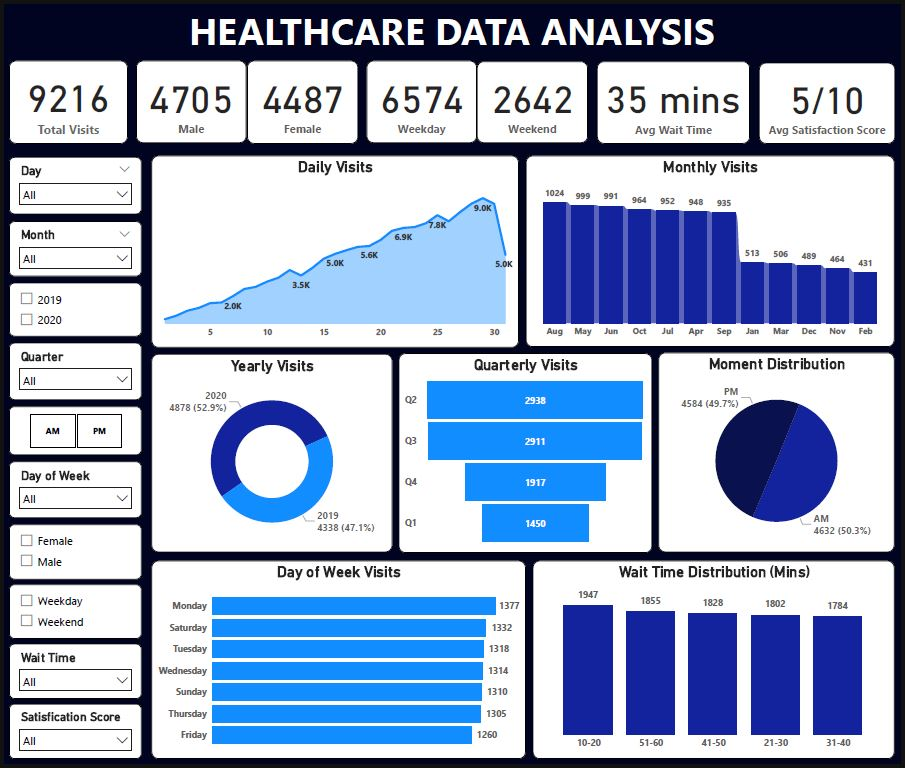

The dashboard page shown, as its layout file describes it:
{"tool":"powerbi","page":{"name":"Page 1","canvas":[1282,1086],"ordinal":0},"visuals":[{"type":"stackedAreaChart","title":"Daily Visits","fields":{"Category":["date_time table.day"],"Y":["Sum(date_time table.day)"]},"box":[210,215.7,525.7,275.7],"z":0},{"type":"columnChart","title":"Monthly Visits","fields":{"Category":["date_time table.month"],"Y":["CountNonNull(date_time table.month)"]},"box":[745.7,215.7,528.6,274.3],"z":1000},{"type":"donutChart","title":"Yearly Visits","fields":{"Y":["CountNonNull(date_time table.year)"],"Category":["date_time table.year"]},"box":[210,500,345,283.8],"z":2000},{"type":"clusteredBarChart","title":"Day of Week Visits","fields":{"Category":["date_time table.day of week"],"Y":["CountNonNull(date_time table.day of week)"]},"box":[210,795.7,535.7,284.3],"z":3000},{"type":"funnel","title":"Quarterly Visits","fields":{"Category":["date_time table.quarter"],"Y":["CountNonNull(date_time table.quarter)"]},"box":[564.3,499.4,362.9,285.7],"z":4000},{"type":"pieChart","title":"Moment Distribution","fields":{"Category":["date_time table.Moment"],"Y":["CountNonNull(date_time table.Moment)"]},"box":[935.7,498,338.6,285.7],"z":5000},{"type":"textbox","box":[0,0,1280,74.3],"z":6000},{"type":"lineStackedColumnComboChart","title":"Wait Time Distribution (Mins)","fields":{"Category":["date_time table.waittime_bucket"],"Y":["CountNonNull(date_time table.waittime_bucket)"]},"box":[755.7,795.7,518.6,284.3],"z":7000},{"type":"slicer","fields":{"Values":["date_time table.day of week"]},"box":[6.2,653.8,190,81.2],"z":8000},{"type":"slicer","fields":{"Values":["date_time table.Moment"]},"box":[6.2,575,190,70],"z":9000},{"type":"slicer","fields":{"Values":["date_time table.quarter"]},"box":[6.2,483.8,190,82.5],"z":10000},{"type":"slicer","fields":{"Values":["date_time table.year"]},"box":[6.2,397.5,190,77.5],"z":11000},{"type":"slicer","fields":{"Values":["date_time table.month"]},"box":[6.2,310,190,78.8],"z":12000},{"type":"slicer","fields":{"Values":["date_time table.day"]},"box":[5.7,218.2,190,81.4],"z":13000},{"type":"slicer","fields":{"Values":["patient table.patient_gender"]},"box":[6.2,743.8,190,78.8],"z":14000},{"type":"slicer","fields":{"Values":["date_time table.weekday/weekend"]},"box":[6.2,830,190,77.5],"z":15000},{"type":"slicer","fields":{"Values":["date_time table.waittime_bucket"]},"box":[6.2,915,190,78.8],"z":16000},{"type":"slicer","fields":{"Values":["activity table.satisfication_score"]},"box":[6.2,1001.2,190,78.8],"z":17000},{"type":"card","fields":{"Values":["Count(patient table.patient_id)"]},"box":[5.7,80,170,118.6],"z":18000},{"type":"card","fields":{"Values":["CountNonNull(patient table.patient_gender)"]},"box":[187.7,79.8,158.6,118.6],"z":19000},{"type":"card","fields":{"Values":["CountNonNull(patient table.patient_gender)"]},"box":[347,79.7,159.4,118.8],"z":20000},{"type":"card","fields":{"Values":["date_time table.Avg Wait Time"]},"box":[847.8,81.2,218.8,117.4],"z":21000},{"type":"card","fields":{"Values":["date_time table.Avg Satisfication Score"]},"box":[1079.7,82.6,195.7,115.9],"z":22000},{"type":"card","fields":{"Values":["CountNonNull(date_time table.weekday/weekend)"]},"box":[517.7,79.7,158.6,118.6],"z":23000},{"type":"card","fields":{"Values":["CountNonNull(date_time table.weekday/weekend)"]},"box":[676.3,81.2,158.6,117.1],"z":24000}]}

Visuals, with their boxes in screenshot pixels (x1, y1, x2, y2), scaled from the page's 1282x1086 canvas onto the 905x768 screenshot:
"Daily Visits" stackedAreaChart: x1=148, y1=153, x2=519, y2=348
"Monthly Visits" columnChart: x1=526, y1=153, x2=900, y2=347
"Yearly Visits" donutChart: x1=148, y1=354, x2=392, y2=554
"Day of Week Visits" clusteredBarChart: x1=148, y1=563, x2=526, y2=764
"Quarterly Visits" funnel: x1=398, y1=353, x2=655, y2=555
"Moment Distribution" pieChart: x1=661, y1=352, x2=900, y2=554
textbox: x1=0, y1=0, x2=904, y2=53
"Wait Time Distribution (Mins)" lineStackedColumnComboChart: x1=533, y1=563, x2=900, y2=764
slicer - date_time table.day of week: x1=4, y1=462, x2=139, y2=520
slicer - date_time table.Moment: x1=4, y1=407, x2=139, y2=456
slicer - date_time table.quarter: x1=4, y1=342, x2=139, y2=400
slicer - date_time table.year: x1=4, y1=281, x2=139, y2=336
slicer - date_time table.month: x1=4, y1=219, x2=139, y2=275
slicer - date_time table.day: x1=4, y1=154, x2=138, y2=212
slicer - patient table.patient_gender: x1=4, y1=526, x2=139, y2=582
slicer - date_time table.weekday/weekend: x1=4, y1=587, x2=139, y2=642
slicer - date_time table.waittime_bucket: x1=4, y1=647, x2=139, y2=703
slicer - activity table.satisfication_score: x1=4, y1=708, x2=139, y2=764
card - Count(patient table.patient_id): x1=4, y1=57, x2=124, y2=140
card - CountNonNull(patient table.patient_gender): x1=133, y1=56, x2=244, y2=140
card - CountNonNull(patient table.patient_gender): x1=245, y1=56, x2=357, y2=140
card - date_time table.Avg Wait Time: x1=598, y1=57, x2=753, y2=140
card - date_time table.Avg Satisfication Score: x1=762, y1=58, x2=900, y2=140
card - CountNonNull(date_time table.weekday/weekend): x1=365, y1=56, x2=477, y2=140
card - CountNonNull(date_time table.weekday/weekend): x1=477, y1=57, x2=589, y2=140
